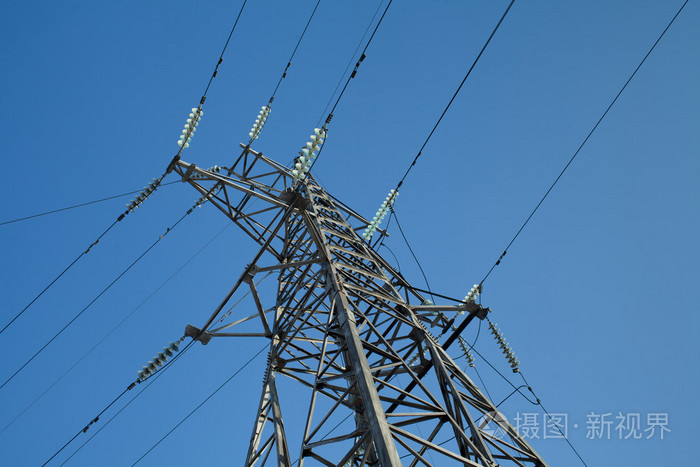insulator: (362, 189, 400, 242), (137, 340, 180, 381), (293, 129, 325, 179), (487, 323, 520, 366), (126, 177, 159, 214), (179, 108, 204, 148), (251, 107, 270, 139), (455, 335, 475, 364), (460, 285, 479, 304)
